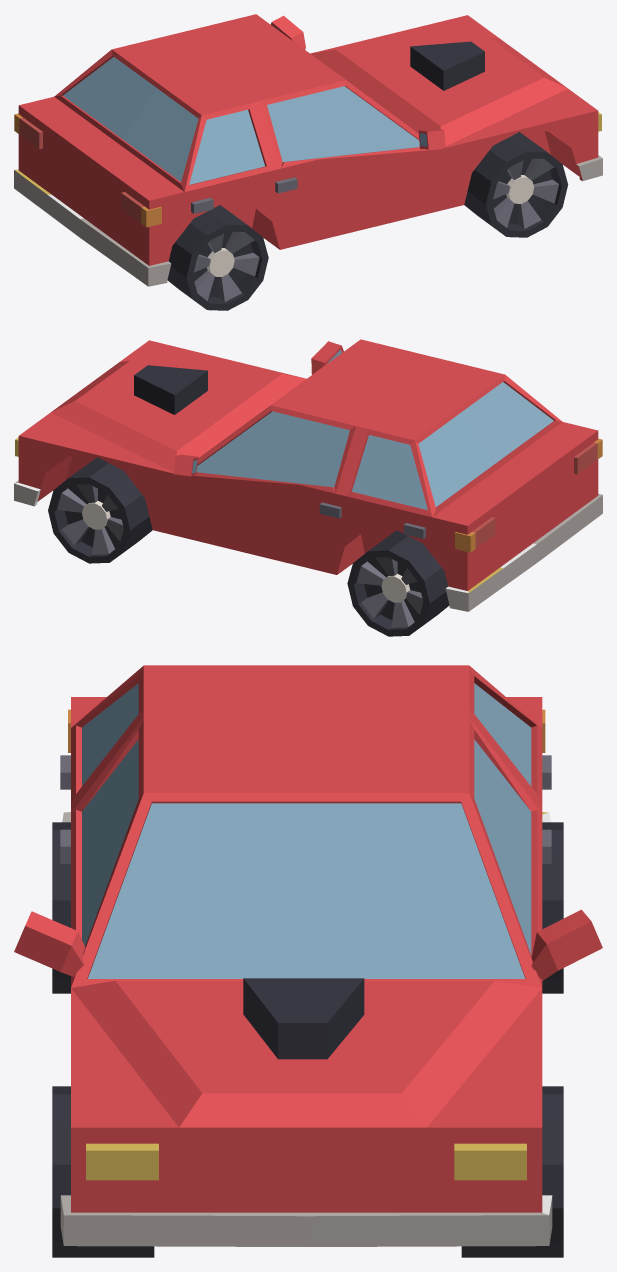
Rendered from car6.fbx.
The picture shows the model from 3 angles, top to bottom: view 1: azimuth 30°, elevation 25°; view 2: azimuth 150°, elevation 25°; view 3: azimuth 270°, elevation 25°; orthographic projection. The views are drawn at different scales.
Visible parts, largest first — view 1: Cylinder.001, Cylinder.011, Cylinder.008, Cylinder.007, Cylinder.006, Cylinder.004, Cylinder.010, Cylinder.009; view 2: Cylinder.001, Cylinder.011, Cylinder, Cylinder.002, Cylinder.004, Cylinder.006, Cylinder.010, Cylinder.009; view 3: Cylinder.011, Cylinder.001, Cylinder, Cylinder.008, Cylinder.009, Cylinder.010, Cylinder.003, Cylinder.005, Cylinder.002, Cylinder.007.
Part boxes in pixels (bbox=[...]): Cylinder.001: bbox=[14, 15, 602, 286]; Cylinder.011: bbox=[54, 14, 439, 191]; Cylinder.008: bbox=[464, 132, 568, 237]; Cylinder.007: bbox=[167, 205, 268, 310]; Cylinder.006: bbox=[121, 192, 161, 227]; Cylinder.004: bbox=[14, 113, 42, 149]; Cylinder.010: bbox=[418, 128, 445, 149]; Cylinder.009: bbox=[271, 15, 305, 49]; Cylinder.001: bbox=[14, 340, 602, 611]; Cylinder.011: bbox=[194, 339, 562, 517]; Cylinder: bbox=[48, 457, 152, 563]; Cylinder.002: bbox=[347, 530, 449, 636]; Cylinder.004: bbox=[455, 517, 495, 552]; Cylinder.006: bbox=[574, 438, 602, 474]; Cylinder.010: bbox=[311, 341, 343, 374]; Cylinder.009: bbox=[173, 454, 198, 476]; Cylinder.011: bbox=[71, 665, 542, 987]; Cylinder.001: bbox=[60, 697, 552, 1246]; Cylinder: bbox=[461, 1086, 563, 1257]; Cylinder.008: bbox=[52, 1086, 154, 1257]; Cylinder.009: bbox=[531, 909, 602, 980]; Cylinder.010: bbox=[14, 911, 85, 976]; Cylinder.003: bbox=[454, 1143, 526, 1180]; Cylinder.005: bbox=[86, 1143, 158, 1180]; Cylinder.002: bbox=[542, 822, 563, 993]; Cylinder.007: bbox=[52, 822, 70, 993].
Bounding box in the file's own units: 516 × 189 × 316.
